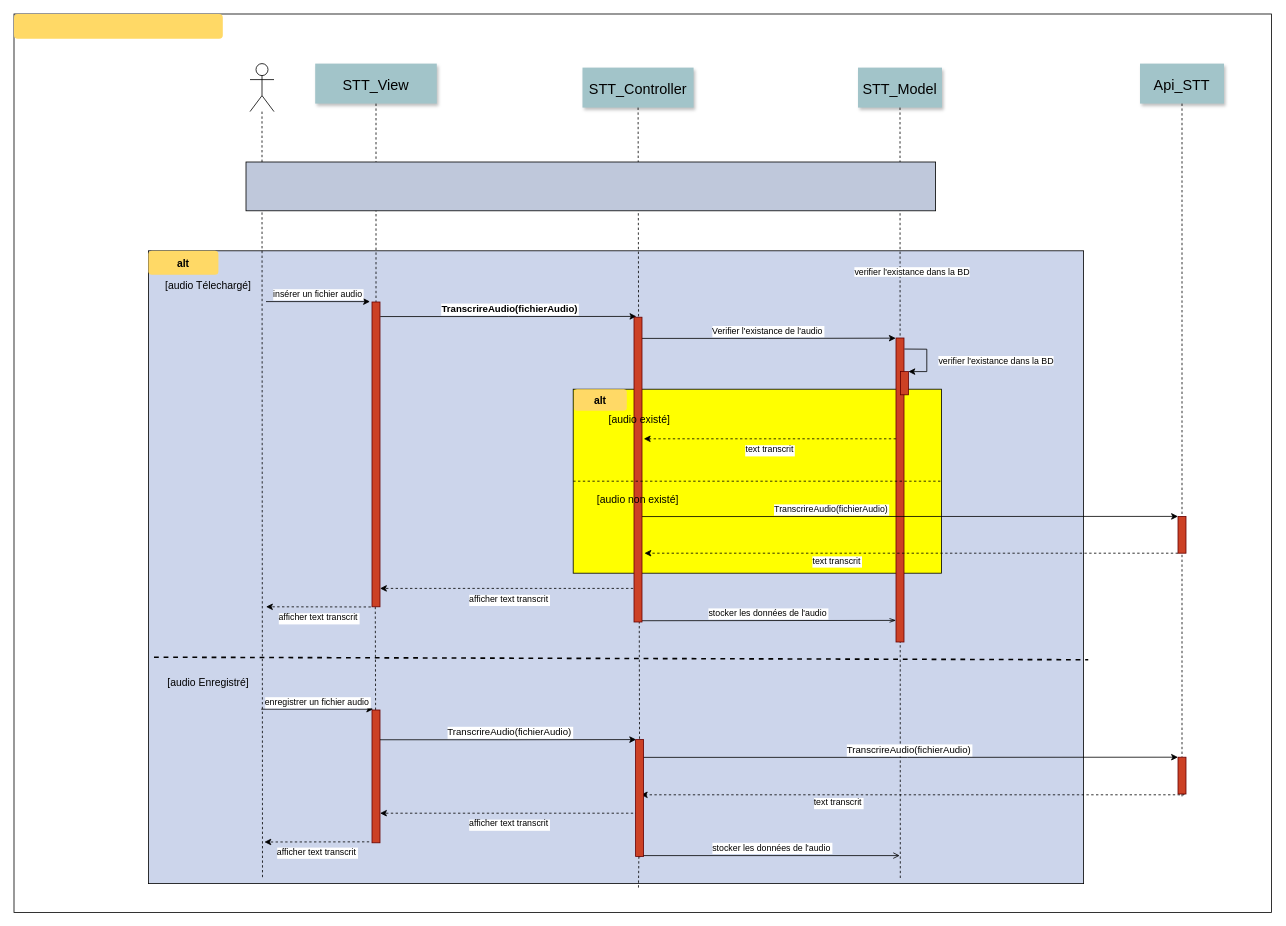
The diagram is 1286 pixels wide and 926 high, and some of its shapes have lost their labels. The centre of each missing label's shape, as x and y in pixels:
"Authentification" goes at point 590,186.
"DS_Model_Speech_To_Text" goes at point 118,26.
"Utilisateur" goes at point 261,87.
